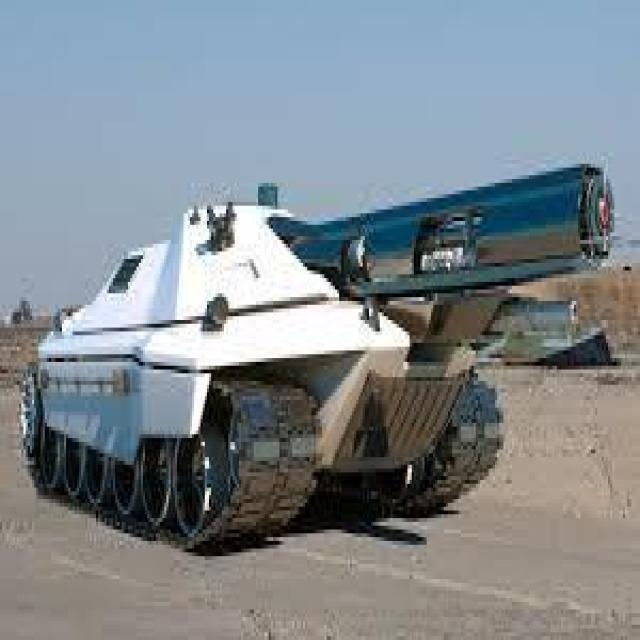Tanks: (24, 189, 474, 581)
